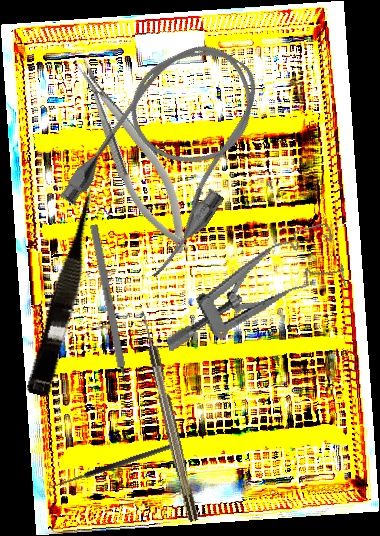Cannula: (51, 19, 293, 286)
Hook Surgical: (139, 312, 199, 523), (89, 223, 133, 403), (46, 441, 179, 498)
Micro Scissor: (25, 183, 110, 400)
Needle Holder: (65, 47, 202, 262)
Speculum: (146, 219, 354, 355)
